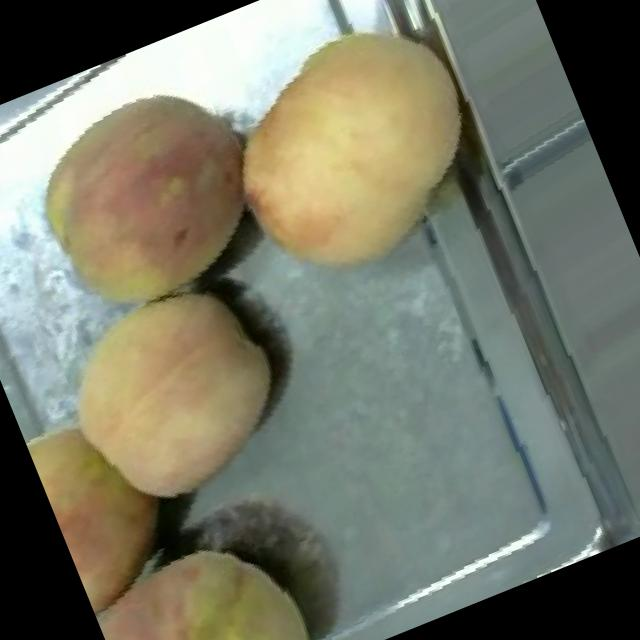Fruit: (179, 0, 517, 317), (0, 46, 303, 350), (18, 249, 322, 546), (14, 376, 199, 618), (76, 494, 334, 640)
